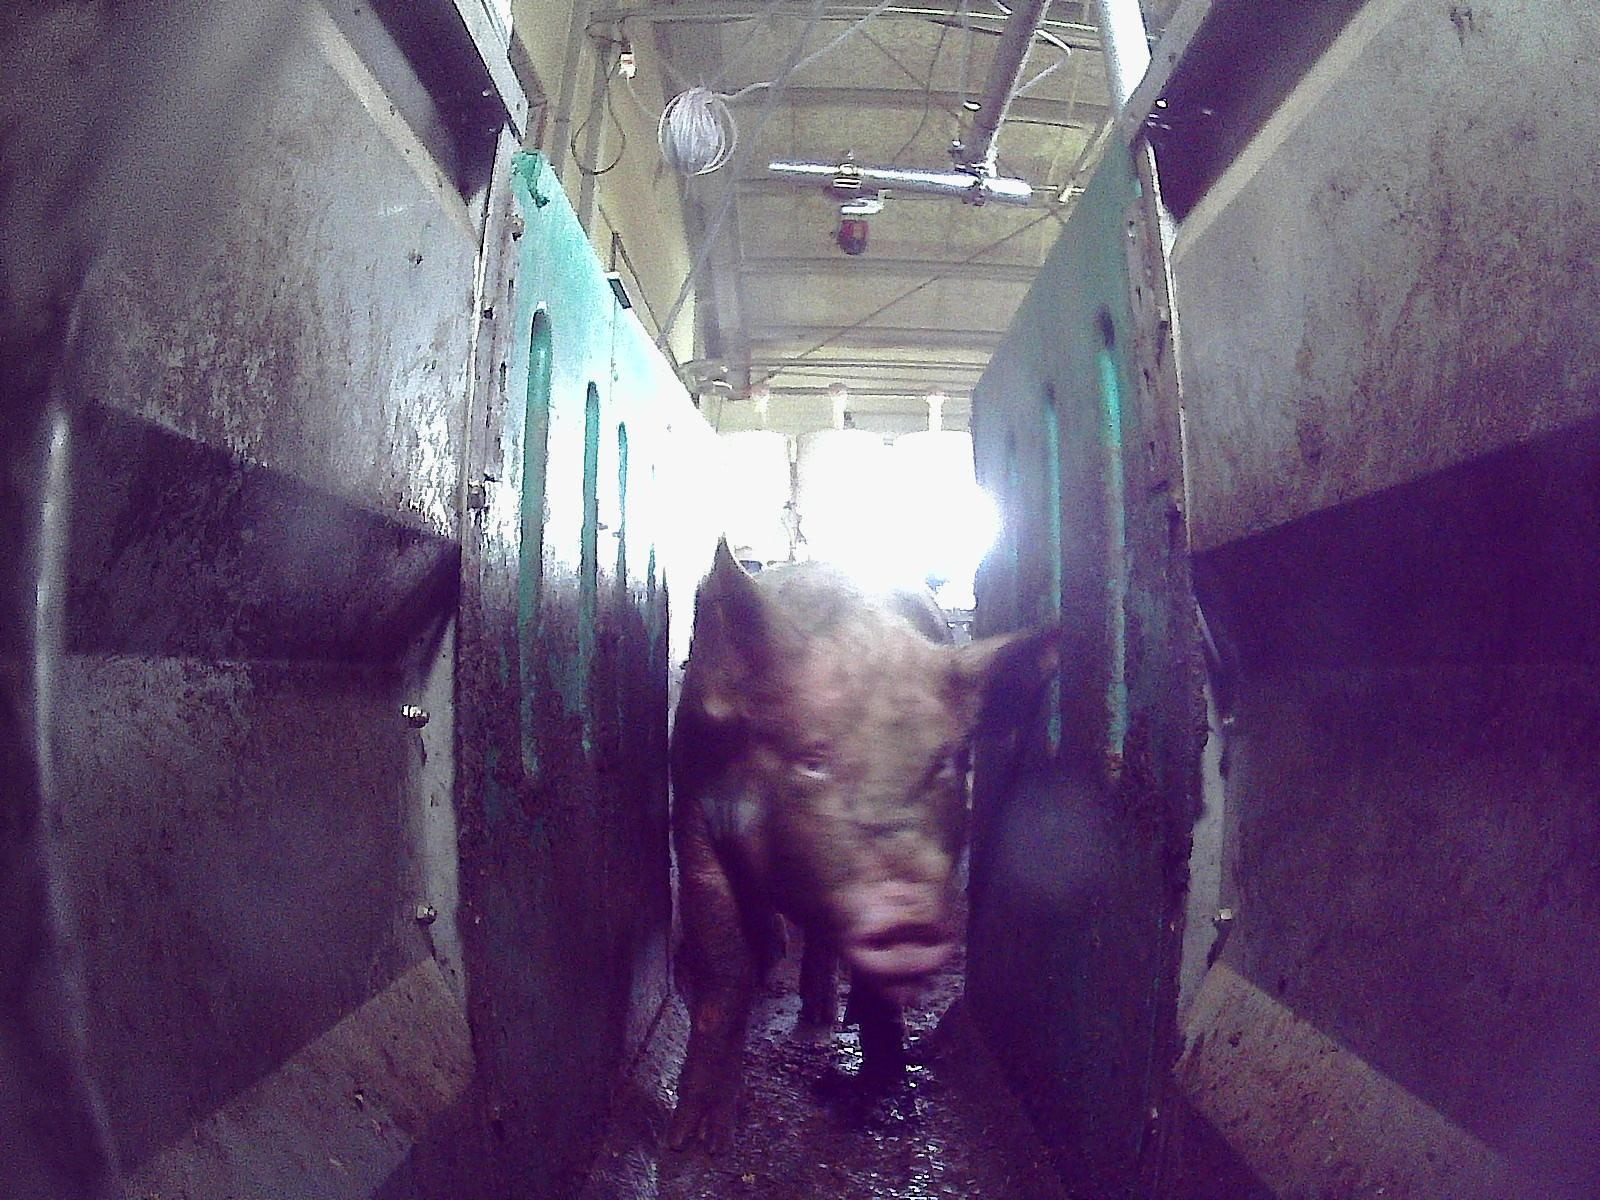Face: (744, 628, 971, 986)
